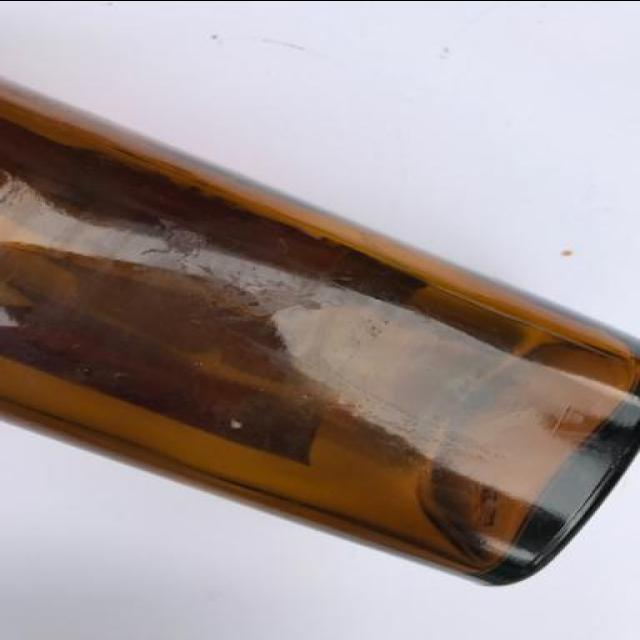glass: (0, 84, 639, 585)
